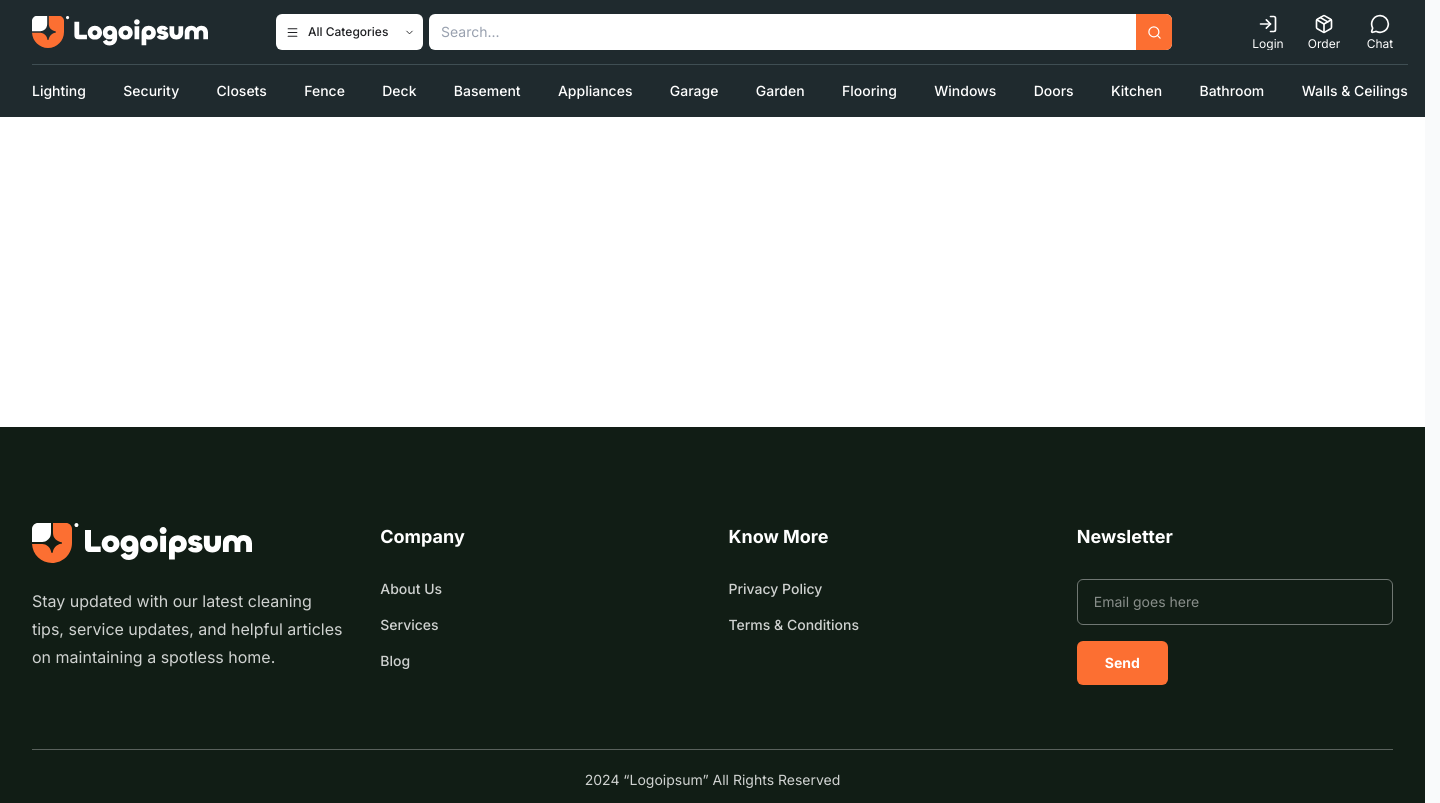
Test case: Landing page › validates newsletter email inline and confirms a valid submission
(page scrolled)
Click the button with aria-label "Subscribe to newsletter" at (1122, 663), box x1=1077 y1=641 x2=1168 y2=685
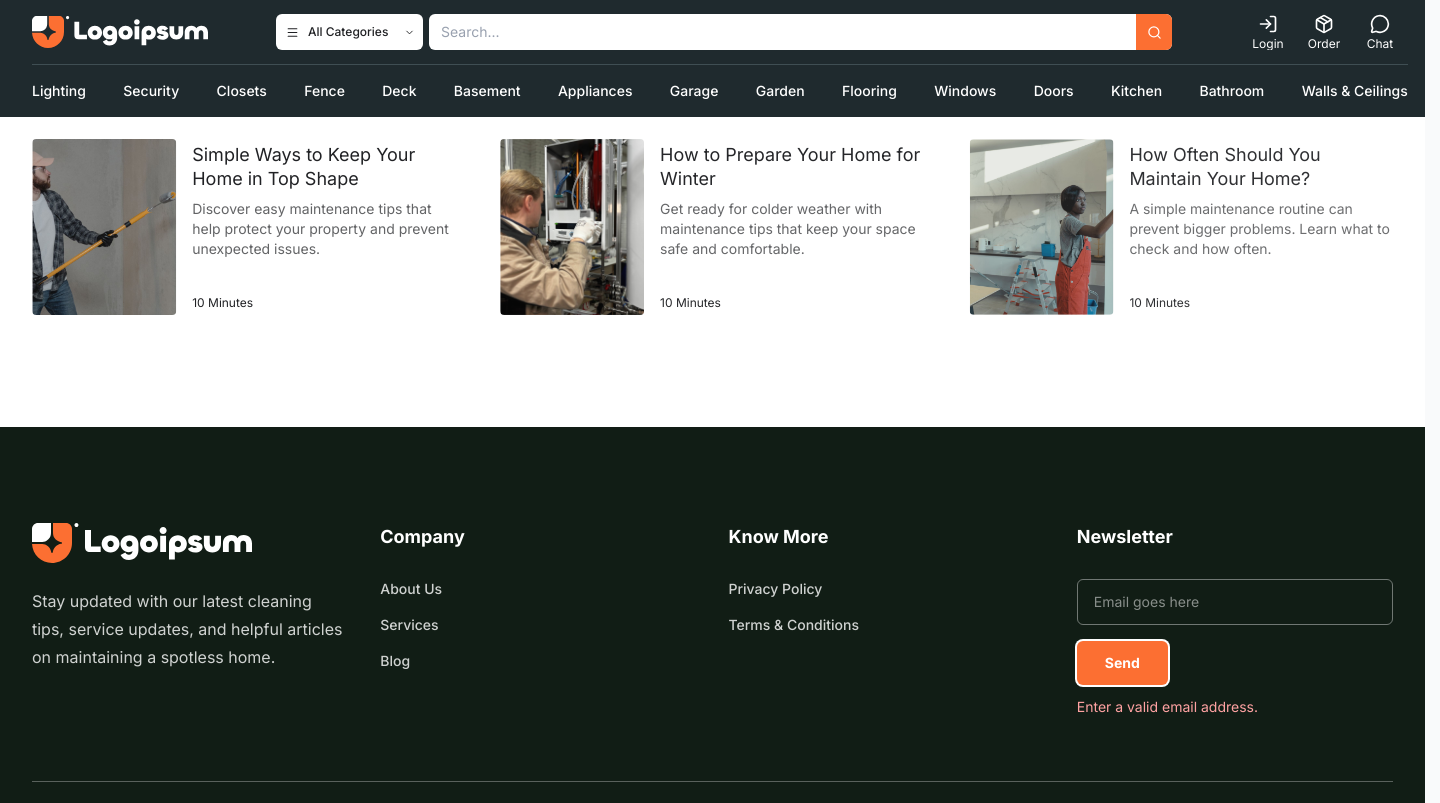
expect the message reads "Enter a valid email address.": met, box x1=1077 y1=698 x2=1258 y2=715
Type "owner@example.com" into the field named "Email address" at (1235, 602), box x1=1077 y1=579 x2=1393 y2=625
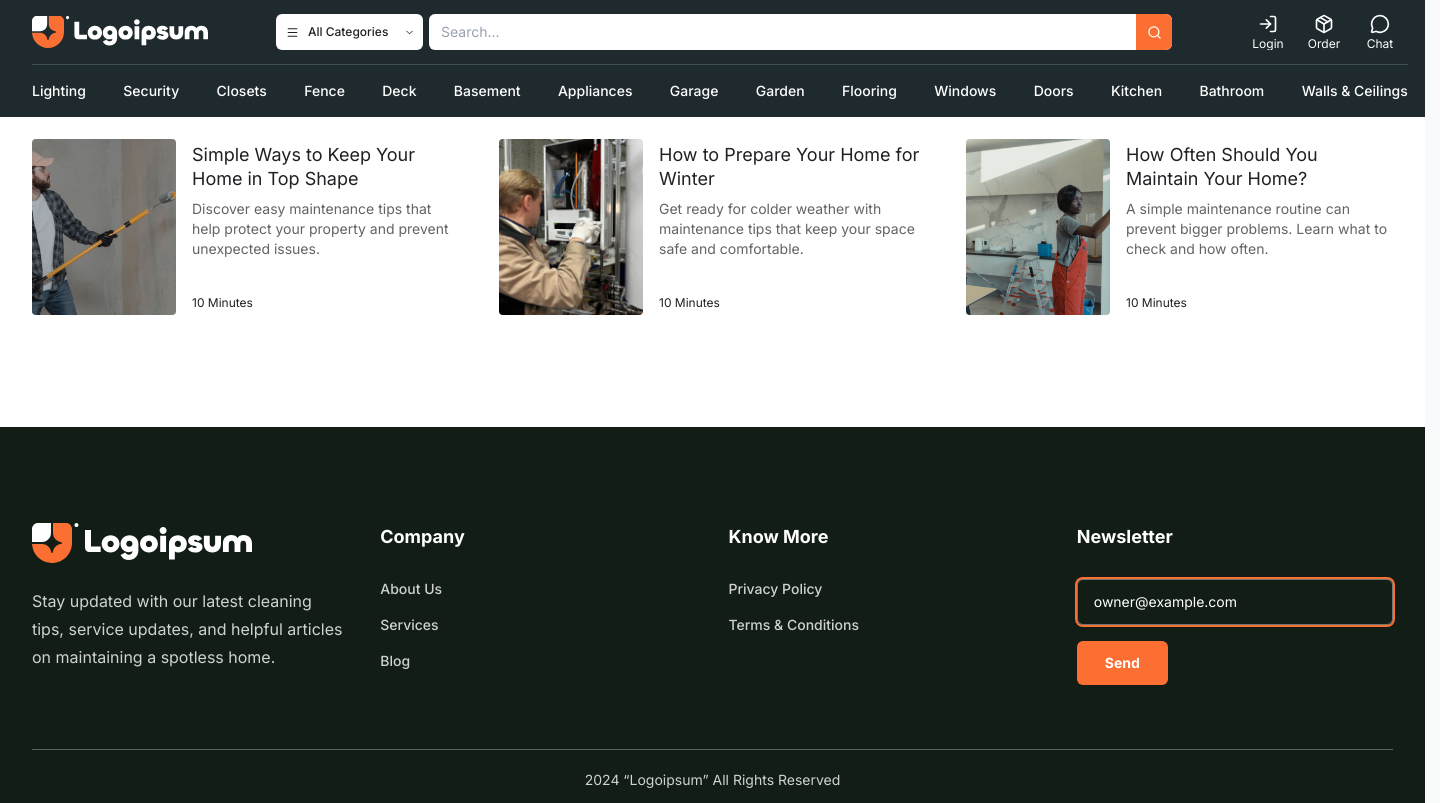
Click the button with aria-label "Subscribe to newsletter" at (1122, 663), box x1=1077 y1=641 x2=1168 y2=685
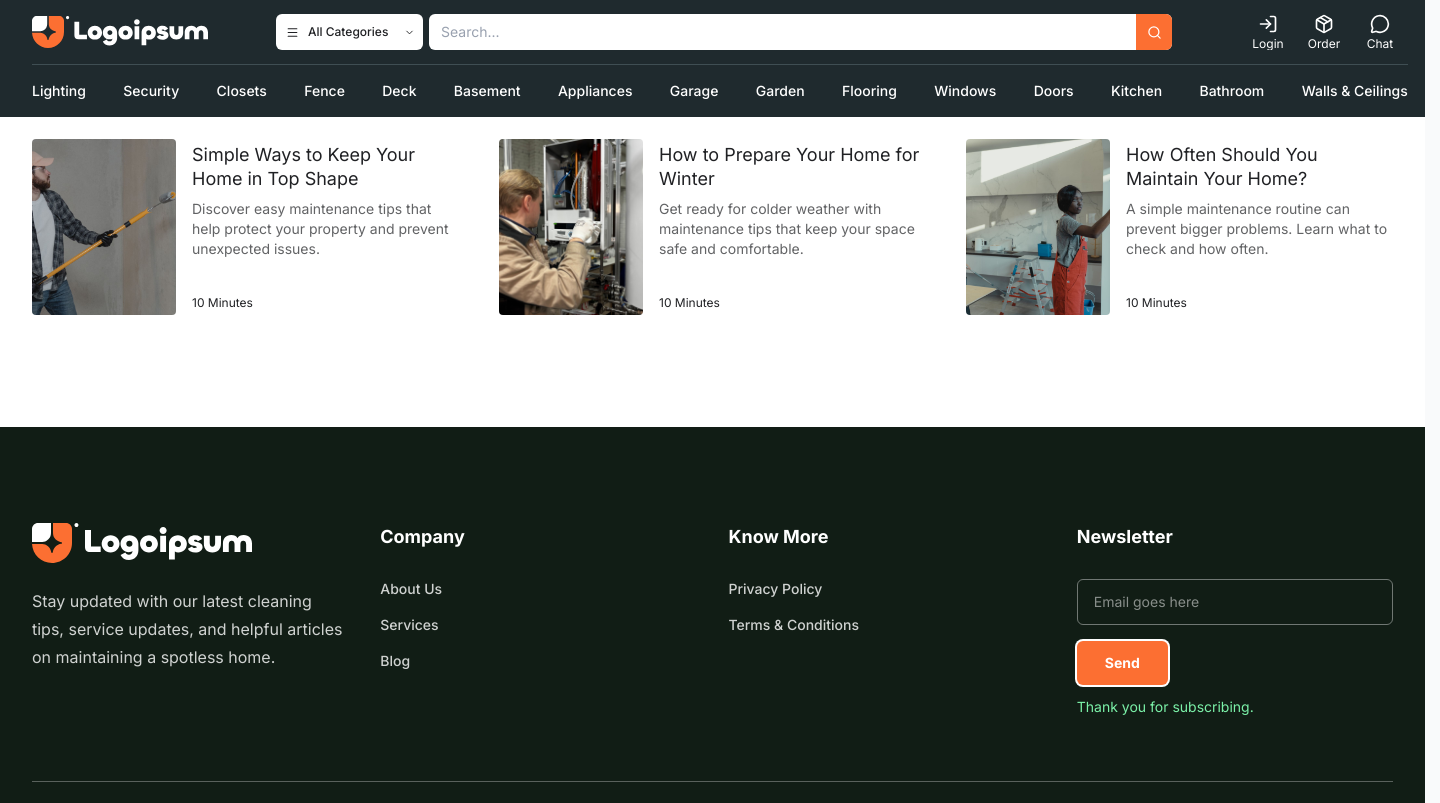
expect the message reads "Thank you for subscribing.": met, box x1=1077 y1=698 x2=1254 y2=715
